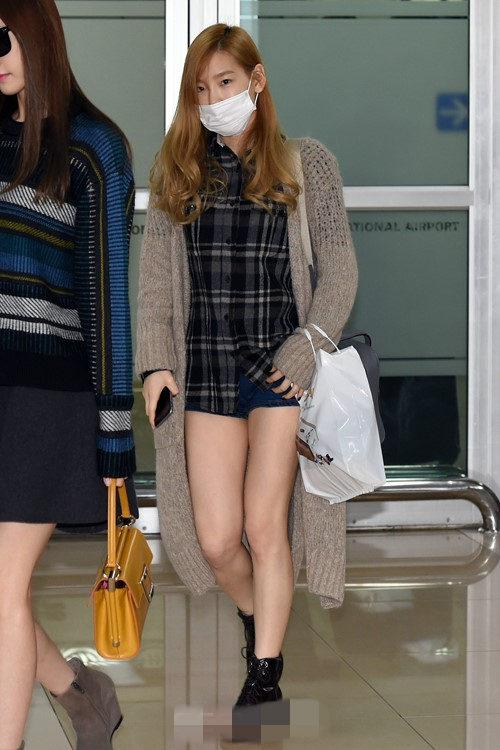face: (1, 18, 32, 97)
face_mask: (195, 49, 250, 139)
